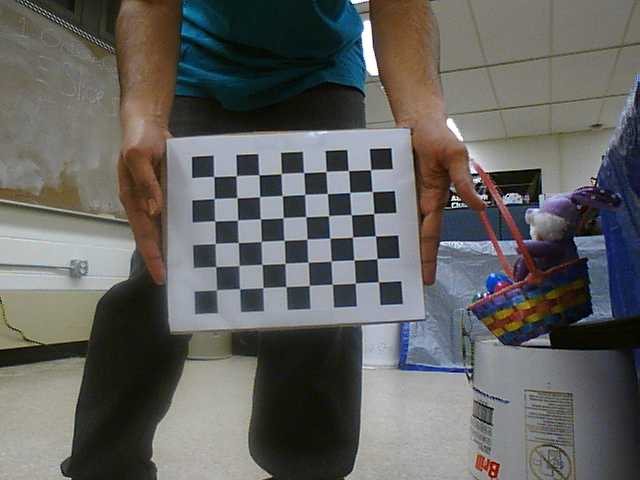bunny: (458, 156, 599, 341)
